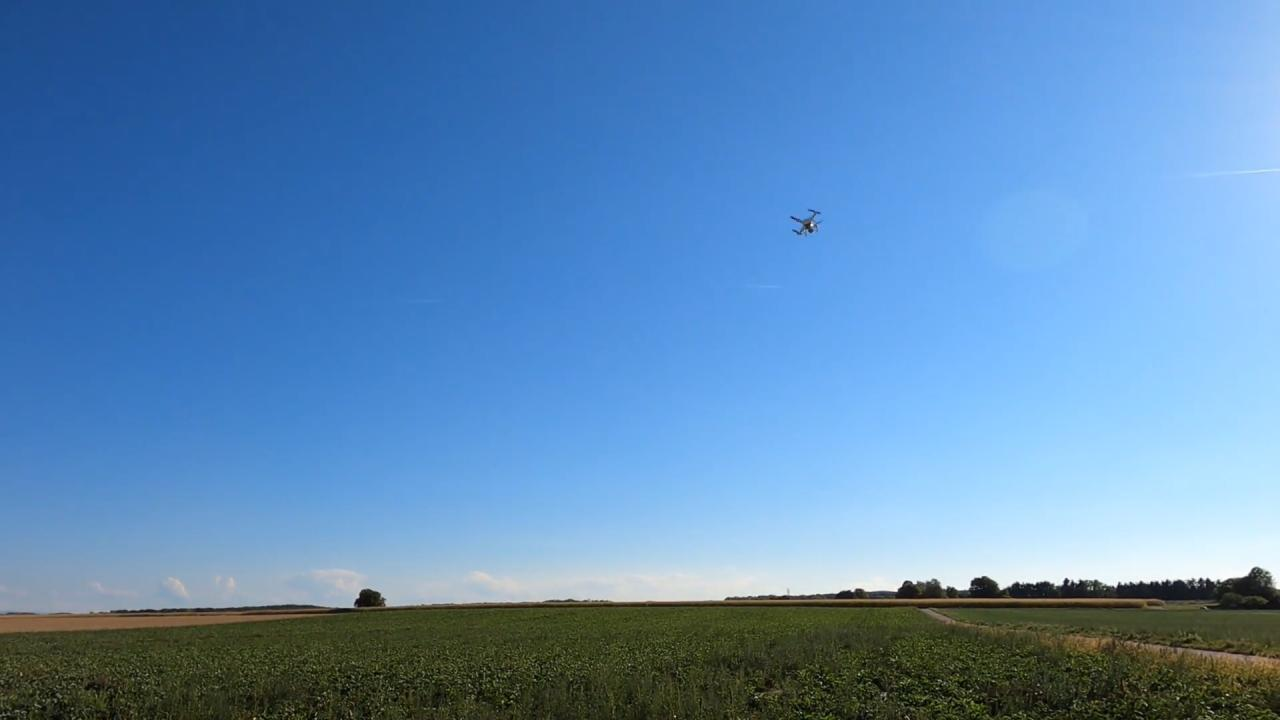Drone: (781, 200, 832, 244)
